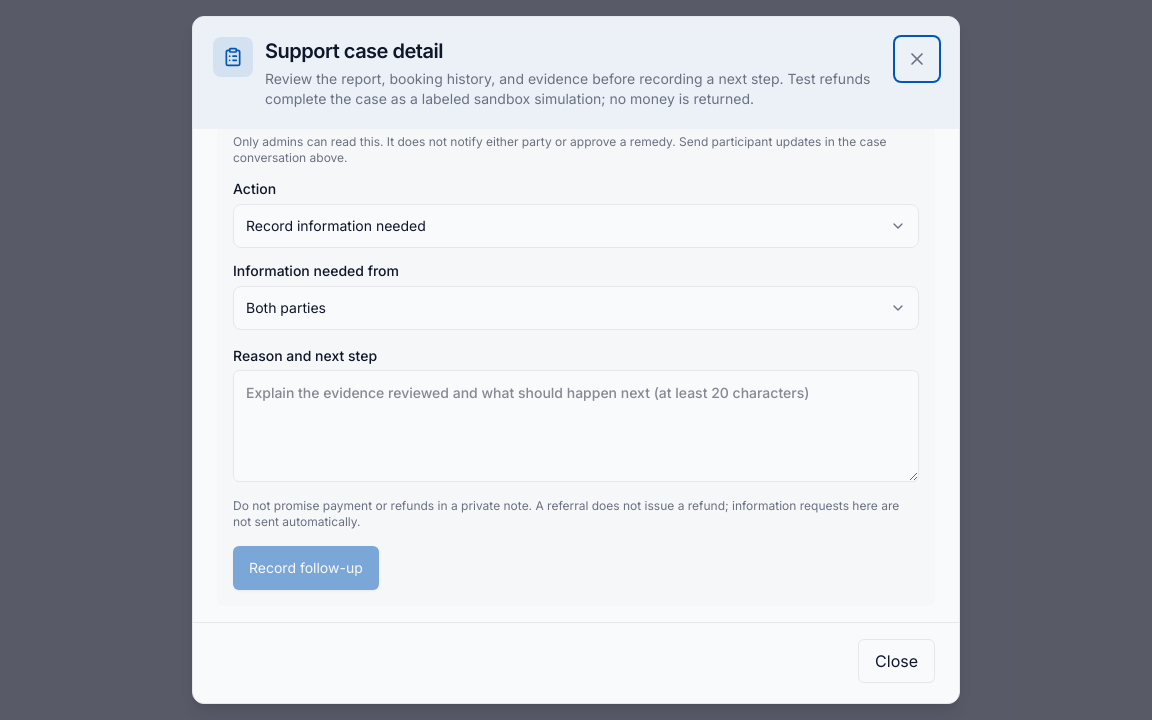
Test: support follow-up save recovery › keeps a saved follow-up successful when the subsequent history load fails
(page scrolled)
Replace the text in the text box labelled "Reason and next step" with "Please provide the booking attendance evidence.". click: (576, 426)
box: [233,370,919,482]
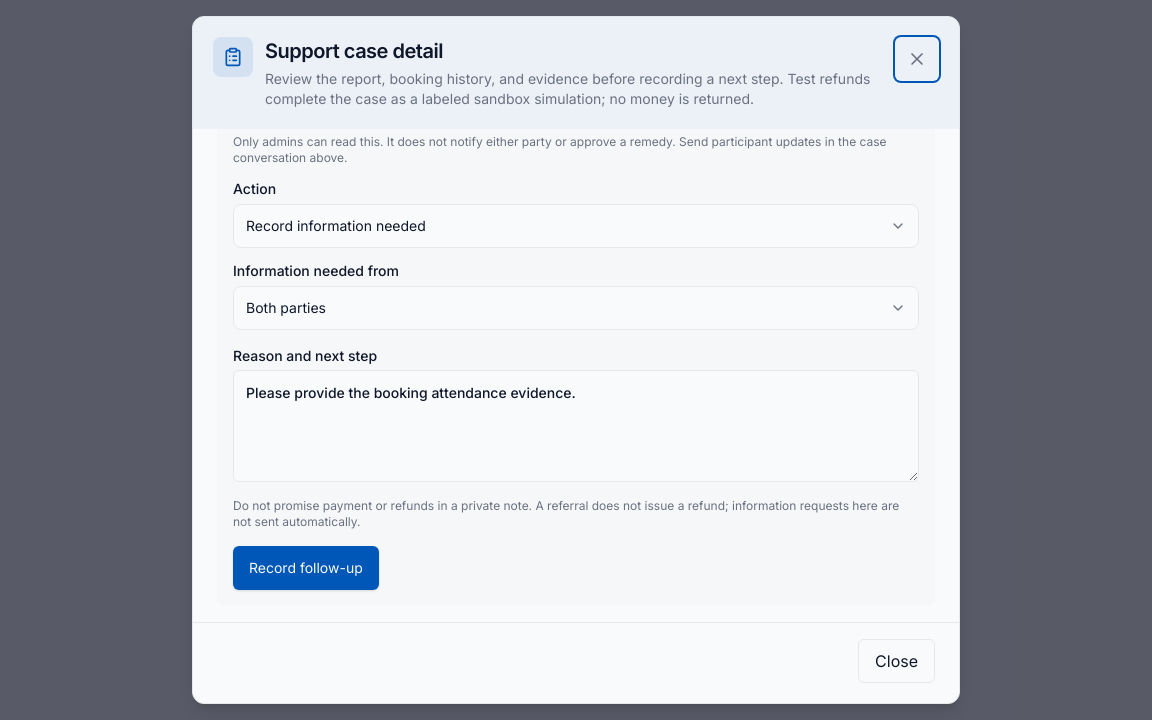
Click the button "Record follow-up". click: click(306, 568)
box: [233,546,379,590]
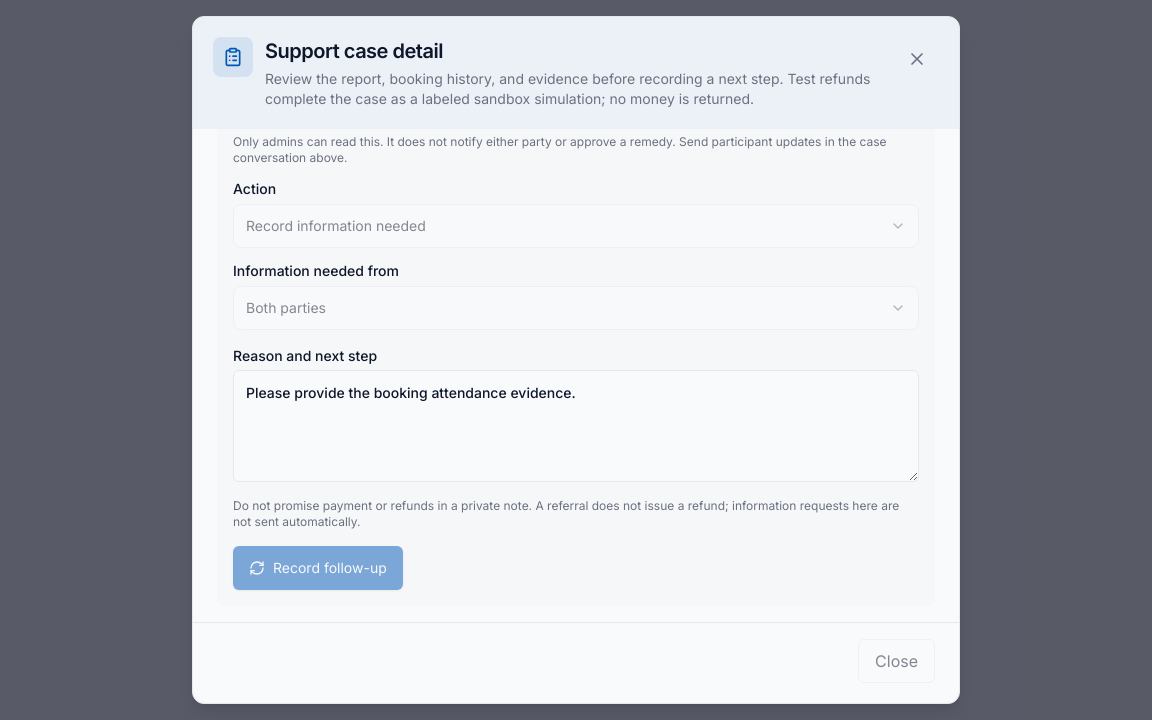
Click the button "Record follow-up". click: click(318, 568)
box: [233,546,403,590]
(page scrolled)
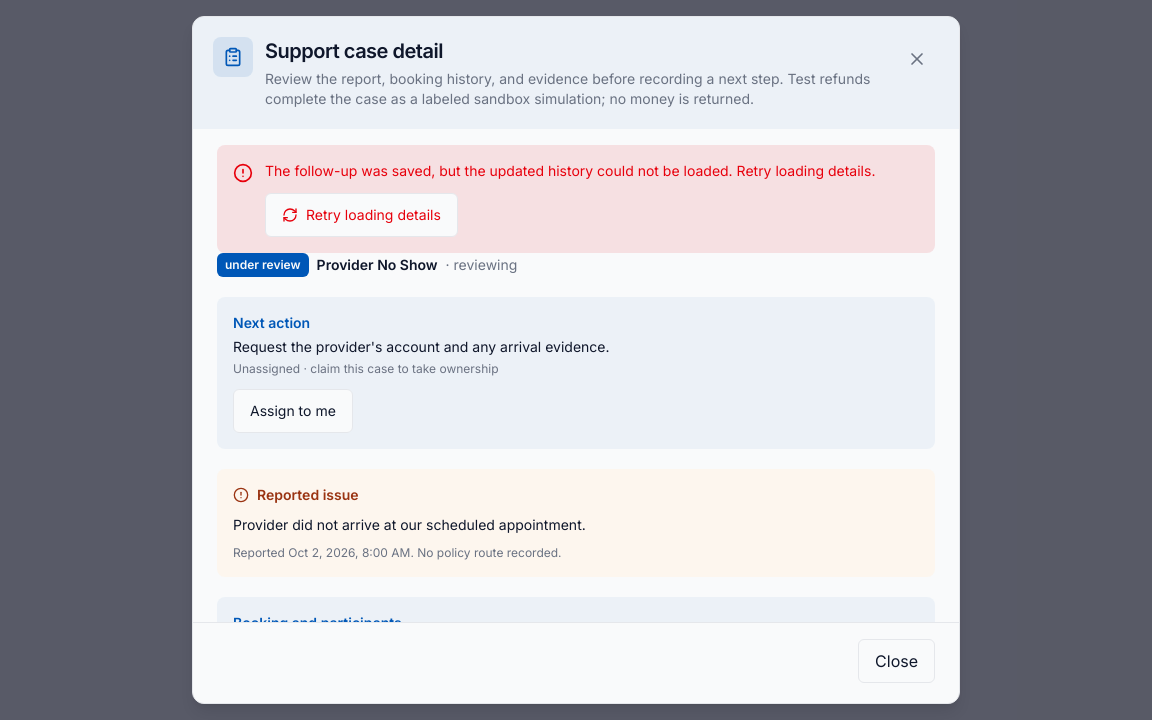
Result: the text "follow-up was saved, but the updated history could not be loaded" is shown at [265,162,875,179]
Click the button "Retry loading details". click: click(361, 215)
box: [265,193,458,237]
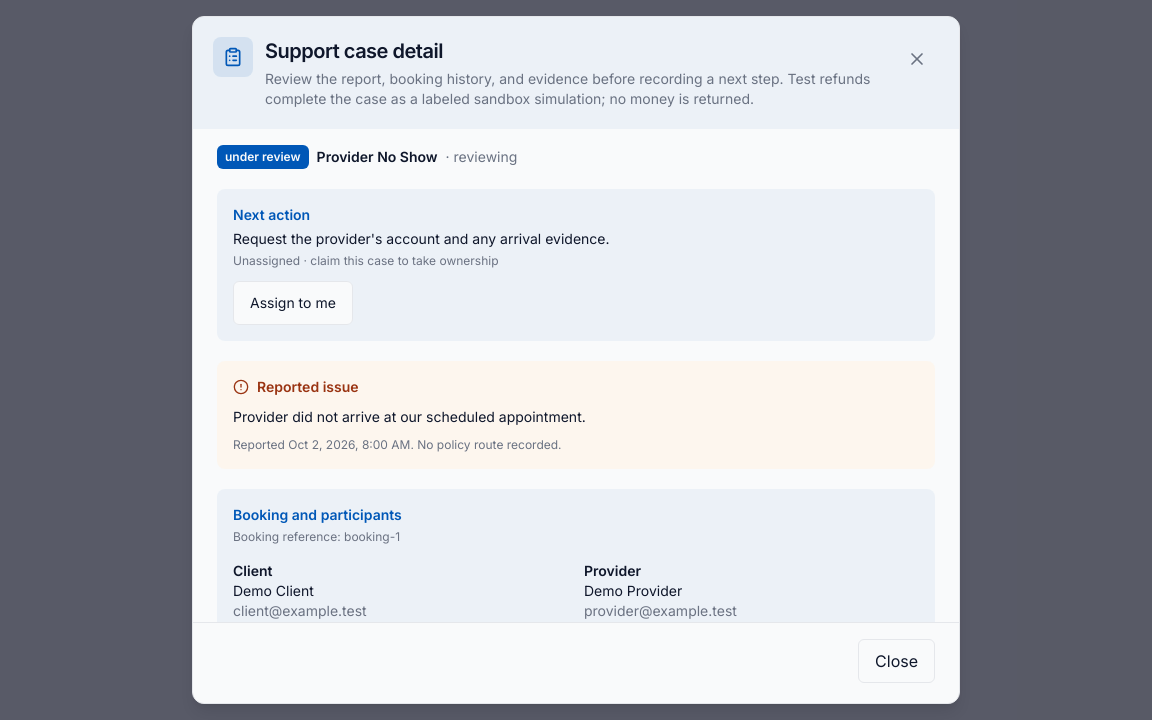
Result: the text "Retry loading details" is gone
